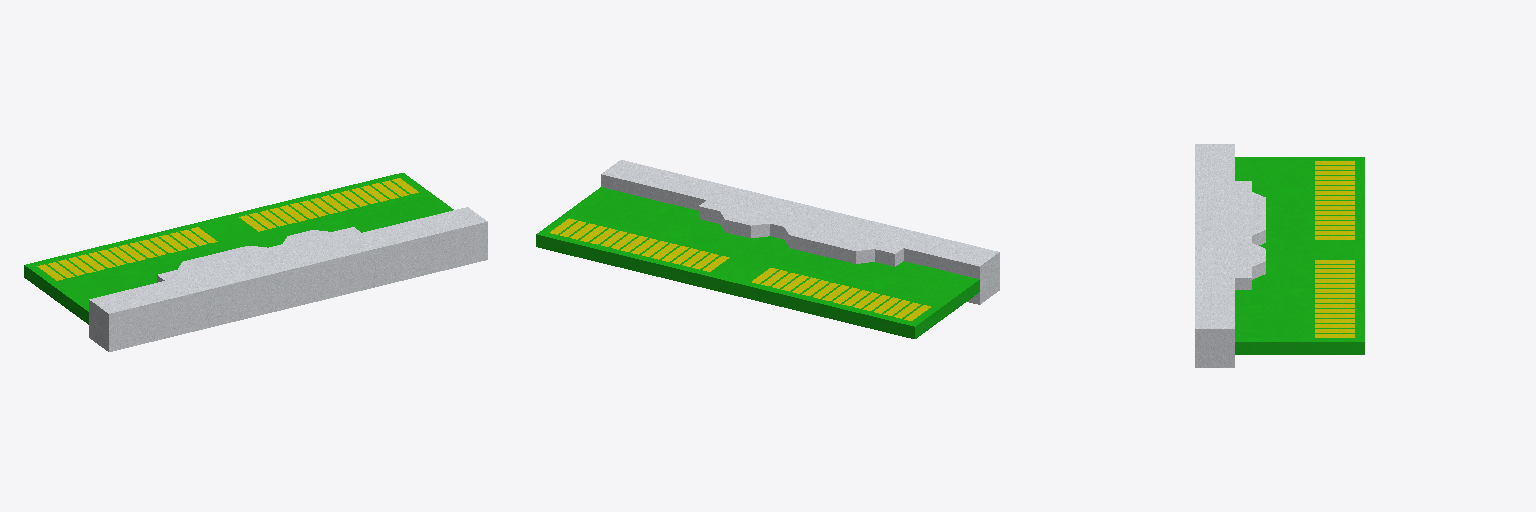
3 views of the same model, side by side, from view 1: azimuth 30°, elevation 25°; view 2: azimuth 150°, elevation 25°; view 3: azimuth 270°, elevation 25° (orthographic).
Visible parts, largest first — view 1: Mesh1_Group1_Model.001; view 2: Mesh1_Group1_Model.001; view 3: Mesh1_Group1_Model.001.
Boxes of the visible parts, box(x1,y1,x2,y2) form: Mesh1_Group1_Model.001: box(24, 173, 487, 351); Mesh1_Group1_Model.001: box(536, 160, 999, 338); Mesh1_Group1_Model.001: box(1195, 144, 1364, 367).
Size of the model in its own units: 0.186 by 0.018 by 0.072.
Materials: 3 (3 with a texture image).